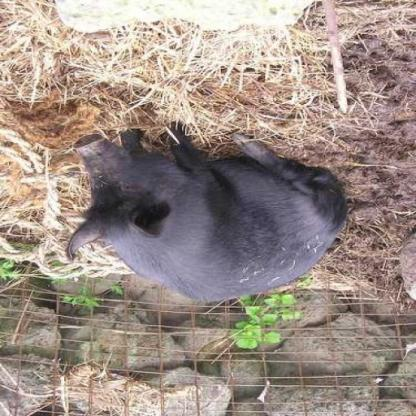boar: (42, 121, 353, 314)
